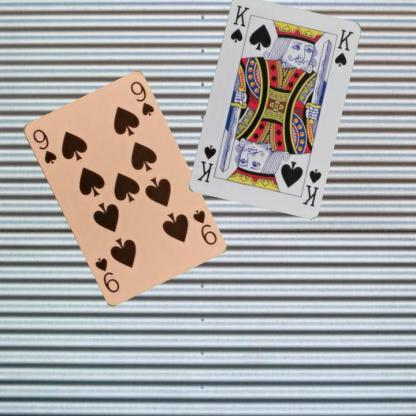9s: (28, 126, 58, 165), (190, 207, 218, 246)
Ks: (228, 2, 250, 44), (300, 166, 322, 208)
